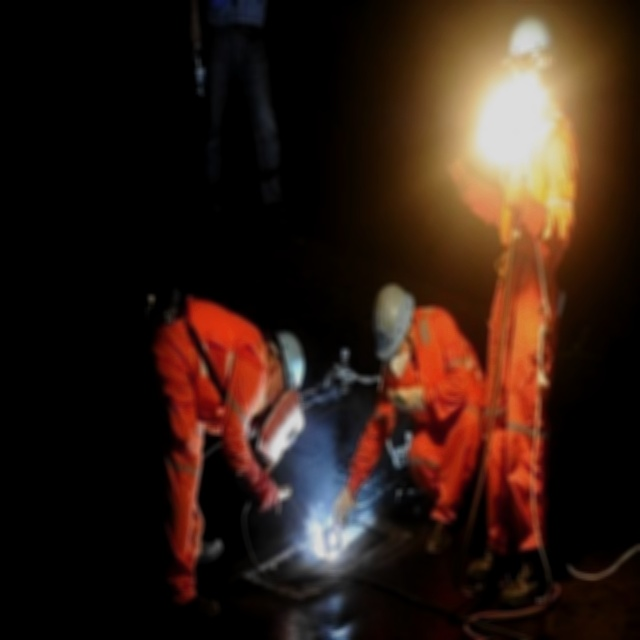Con_Casco: (375, 284, 411, 365), (272, 322, 304, 398)
